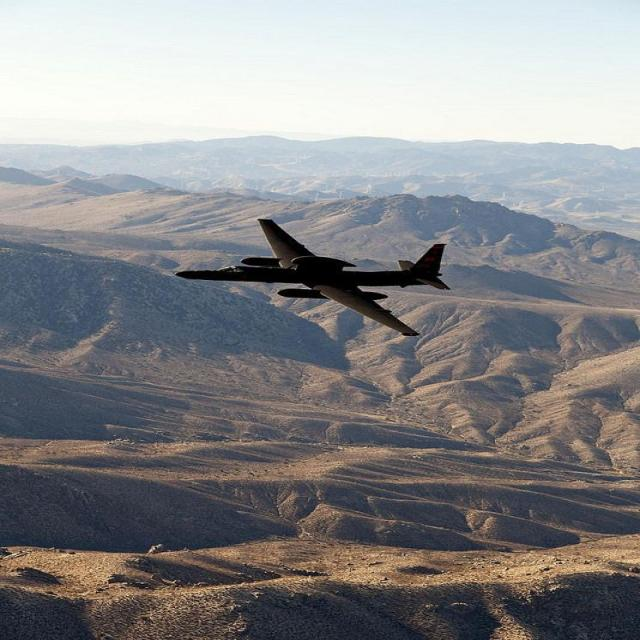iha: (176, 250, 454, 306)
